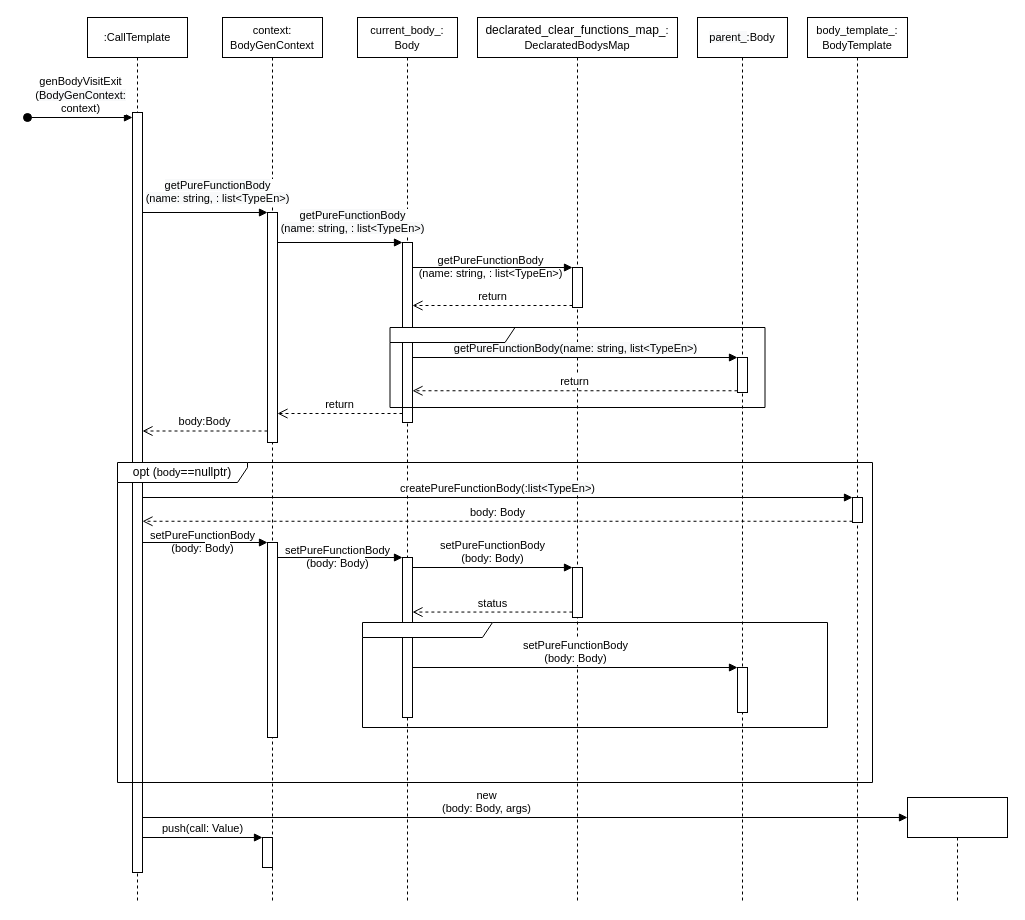
Some shapes in this 1025 by 920 pixel diagram are drawn without their labels. The box of each missing label's shape, as (x1, y1, x2, y2) in pixels:
alt (status == true): (362, 622, 828, 728)
call :Pure FunctionCall: (906, 796, 1008, 902)
opt ( body_ ==nullptr): (389, 326, 765, 408)
